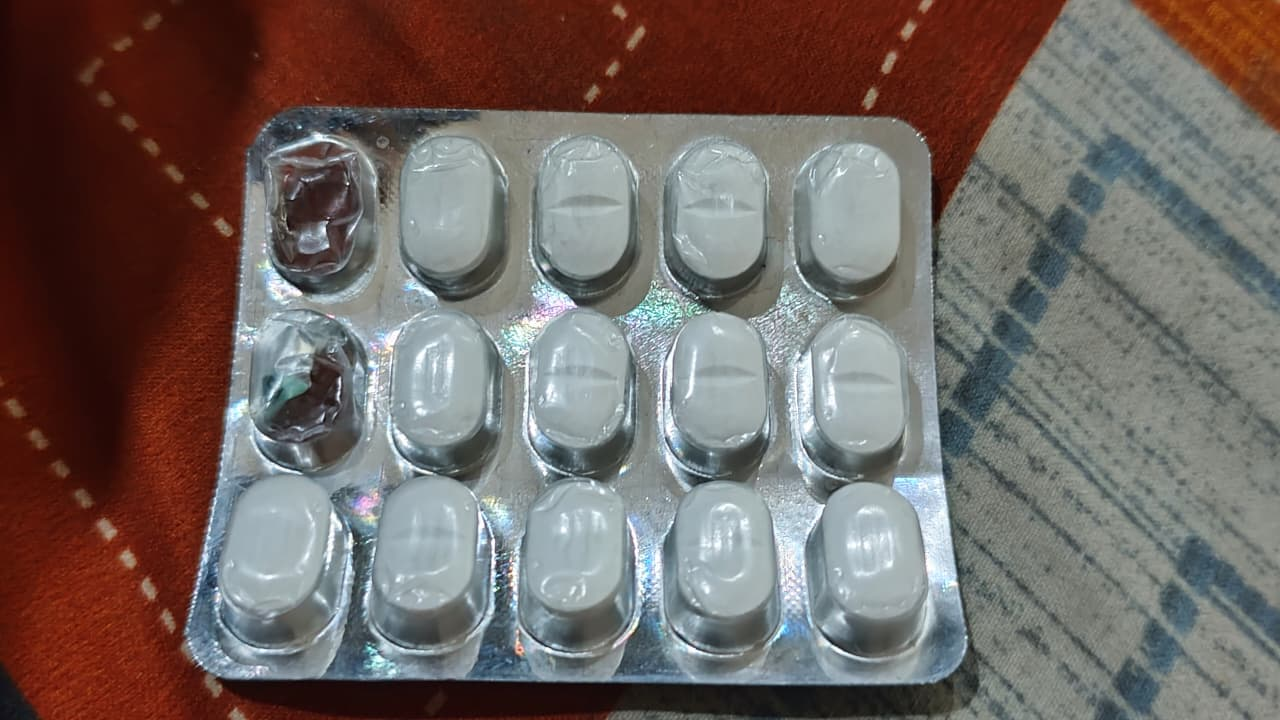MedicineStrip: (184, 105, 940, 660)
